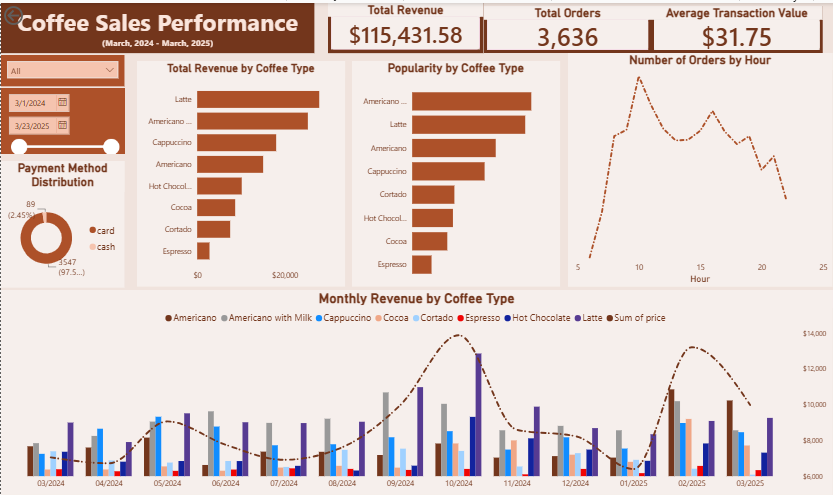

The page's visual inventory and layout, read from the dashboard file:
{"tool":"powerbi","page":{"name":" Sales Performance","canvas":[1326,785],"ordinal":0},"visuals":[{"type":"textbox","box":[0,0,500.2,79.7],"z":0},{"type":"cardVisual","title":"Total Revenue","fields":{"Data":["Sum(Coffee Sales (cleaned).price)"]},"box":[522.4,0,247.9,79.7],"z":1000},{"type":"cardVisual","title":"Total Orders","fields":{"Data":["Coffee Sales (cleaned).Formatted Order"]},"box":[770.3,4.4,267.1,75.3],"z":2000},{"type":"cardVisual","title":"Average Transaction Value","fields":{"Data":["Coffee Sales (cleaned).Sum of price divided by Count of cash_type 2"]},"box":[1037.4,4.4,274.5,75.3],"z":3000},{"type":"donutChart","title":"Payment Method Distribution","fields":{"Category":["Coffee Sales (cleaned).cash_type"],"Y":["CountNonNull(Coffee Sales (cleaned).cash_type)"]},"box":[0,251.7,196.7,201.7],"z":4000},{"type":"lineChart","title":"Number of Orders by Hour","fields":{"Category":["Coffee Sales (cleaned).hour"],"Y":["CountNonNull(Coffee Sales (cleaned).cash_type)"]},"box":[905,80,421.7,373.3],"z":5000},{"type":"barChart","title":"Total Revenue by Coffee Type","fields":{"Category":["Coffee Sales (cleaned).coffee_name"],"Y":["Sum(Coffee Sales (cleaned).price)"]},"box":[216.7,93.3,331.7,360],"z":6000},{"type":"barChart","title":"Popularity by Coffee Type","fields":{"Category":["Coffee Sales (cleaned).coffee_name"],"Y":["CountNonNull(Coffee Sales (cleaned).cash_type)"]},"box":[560,93.3,331.7,360],"z":7000},{"type":"slicer","fields":{"Values":["Coffee Sales (cleaned).datetime"]},"box":[0,135,196.7,105],"z":8000},{"type":"lineClusteredColumnComboChart","title":"Monthly Revenue by Coffee Type","fields":{"Series":["Coffee Sales (cleaned).coffee_name"],"Y":["Sum(Coffee Sales (cleaned).price)"],"Y2":["Sum(Coffee Sales (cleaned).price)"],"Category":["Coffee Sales (cleaned).month_year"]},"box":[0,458.3,1326.7,326.7],"z":9000},{"type":"actionButton","box":[0,0,100,40],"z":10000},{"type":"slicer","fields":{"Values":["Coffee Sales (cleaned).coffee_name"]},"box":[0,83.3,196.7,50],"z":11000}]}

Visuals, with their boxes in screenshot pixels (x1, y1, x2, y2), scaled from the page's 1326x785 canvas onto the 833x495 screenshot:
textbox: [x1=0, y1=0, x2=314, y2=50]
"Total Revenue" cardVisual: [x1=328, y1=0, x2=484, y2=50]
"Total Orders" cardVisual: [x1=484, y1=3, x2=652, y2=50]
"Average Transaction Value" cardVisual: [x1=652, y1=3, x2=824, y2=50]
"Payment Method Distribution" donutChart: [x1=0, y1=159, x2=124, y2=286]
"Number of Orders by Hour" lineChart: [x1=569, y1=50, x2=832, y2=286]
"Total Revenue by Coffee Type" barChart: [x1=136, y1=59, x2=345, y2=286]
"Popularity by Coffee Type" barChart: [x1=352, y1=59, x2=560, y2=286]
slicer - Coffee Sales (cleaned).datetime: [x1=0, y1=85, x2=124, y2=151]
"Monthly Revenue by Coffee Type" lineClusteredColumnComboChart: [x1=0, y1=289, x2=832, y2=494]
actionButton: [x1=0, y1=0, x2=63, y2=25]
slicer - Coffee Sales (cleaned).coffee_name: [x1=0, y1=53, x2=124, y2=84]
